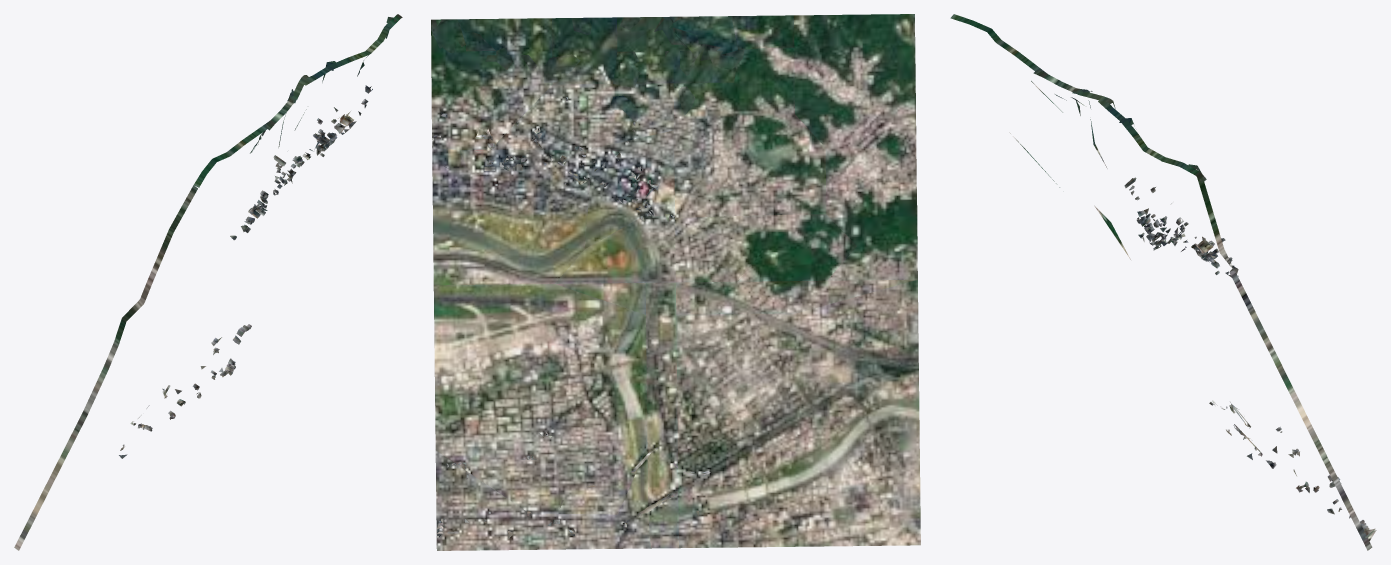
3 views of the same model, side by side, from view 1: azimuth 30°, elevation 25°; view 2: azimuth 150°, elevation 25°; view 3: azimuth 270°, elevation 25° (orthographic). The views are drawn at different scales.
Size of the model in its own units: 4830 by 4543 by 4143.
Materials: 1 (1 with a texture image).
